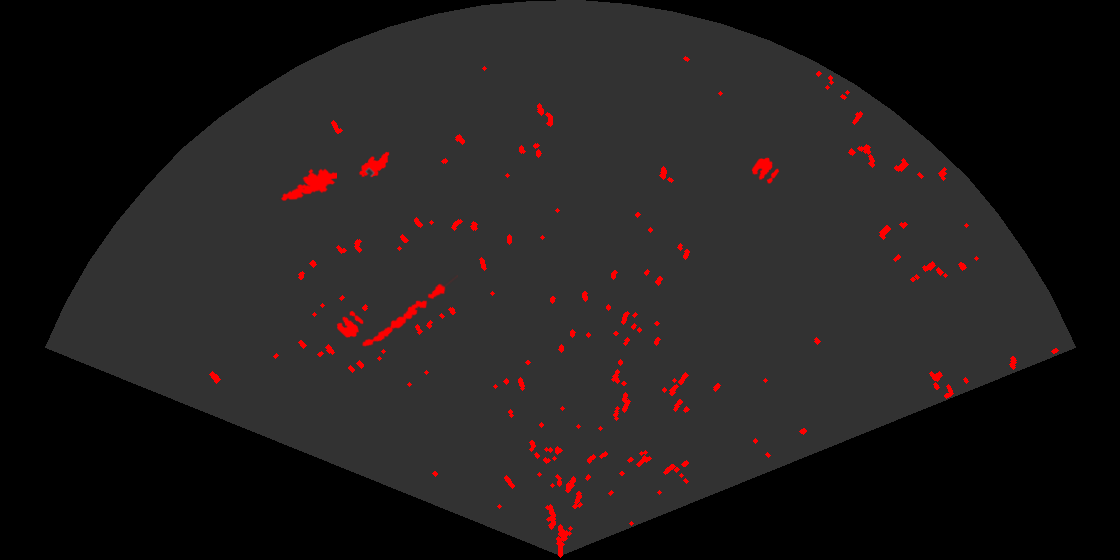AUV: (357, 150, 391, 179)
ball: (335, 309, 365, 339), (750, 156, 781, 185)
chain: (360, 275, 458, 348)
frogman: (279, 167, 337, 202)
